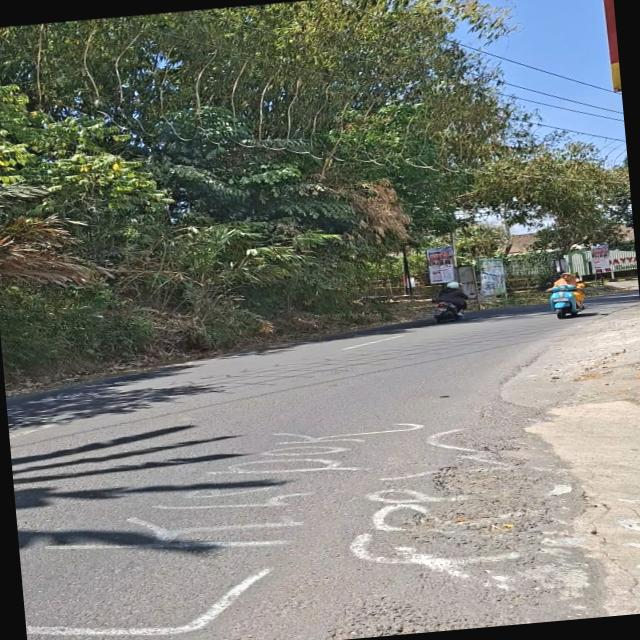WithHelmet: (431, 280, 475, 320)
WithoutHelmet: (549, 270, 588, 311)
